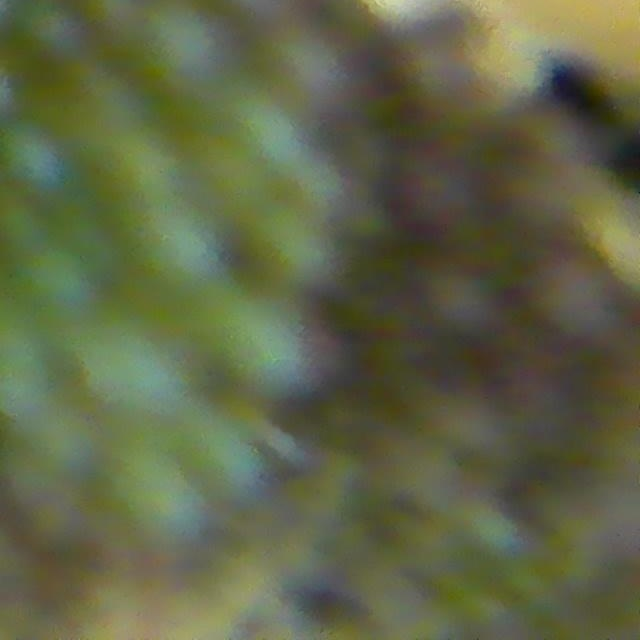SeaGrape: (204, 304, 320, 407), (106, 439, 206, 553), (88, 321, 191, 428), (524, 243, 610, 340), (137, 201, 218, 299), (139, 1, 231, 83), (245, 202, 330, 288), (19, 239, 100, 318), (182, 420, 266, 496), (0, 116, 74, 202), (425, 267, 502, 341), (30, 408, 104, 481), (13, 0, 81, 63)
